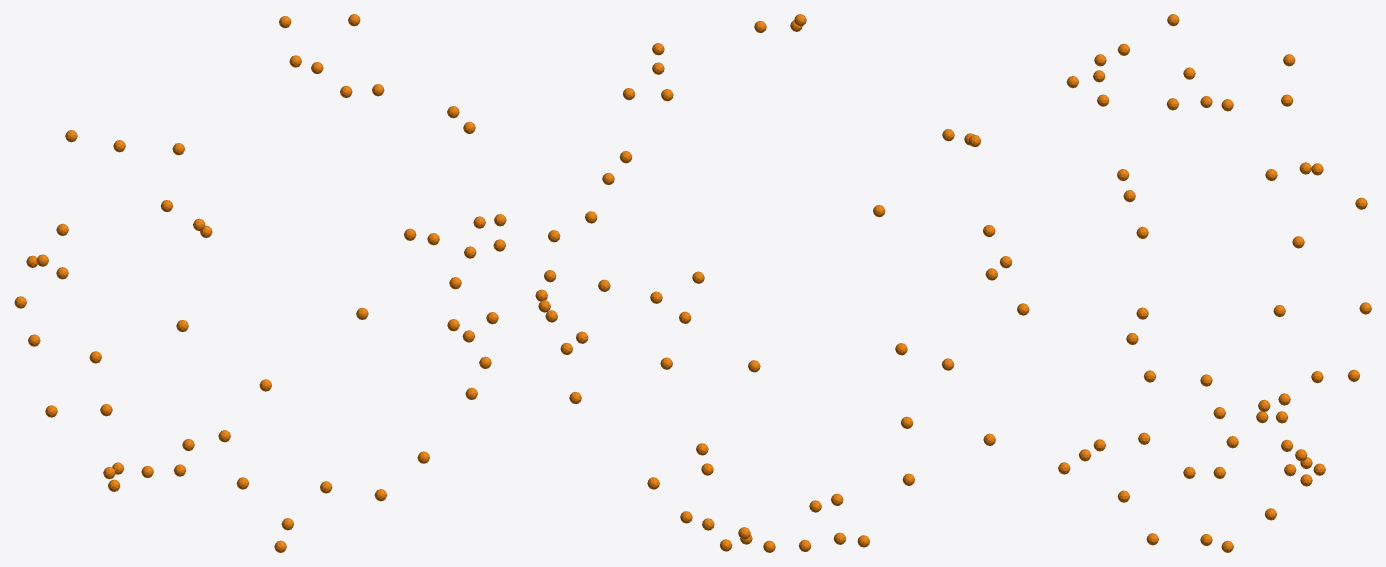
File: citrus_plain_d_fruit.obj
3 renders of one model, left to right at view 1: azimuth 30°, elevation 25°; view 2: azimuth 150°, elevation 25°; view 3: azimuth 270°, elevation 25°, orthographic.
Visible parts, largest first — view 1: fruit; view 2: fruit; view 3: fruit.
Boxes of the visible parts, bbox=[...] form: fruit: bbox=[14, 14, 506, 552]; fruit: bbox=[535, 14, 1029, 552]; fruit: bbox=[1058, 14, 1371, 552].
Size of the model in its own units: 3.12 by 3.34 by 1.92.
